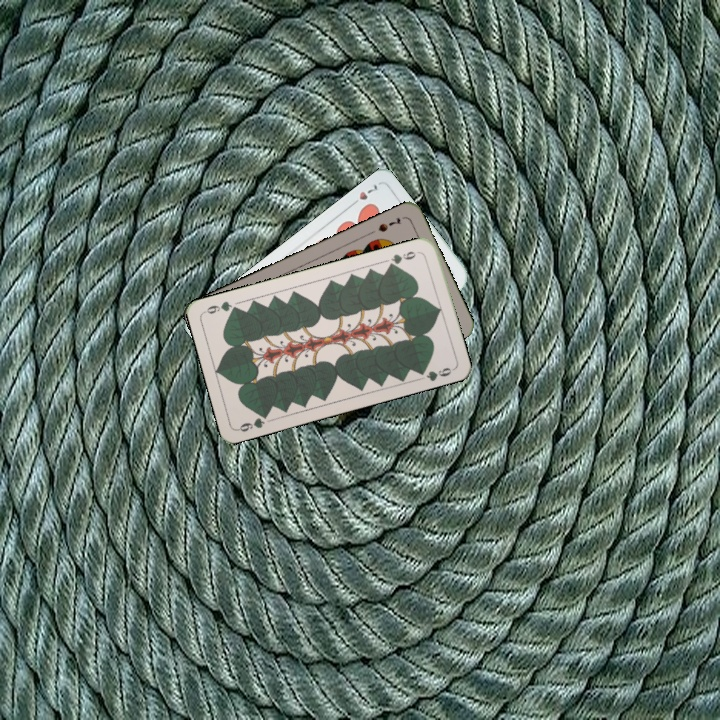G9: (234, 409, 272, 434), (384, 247, 423, 270)
H7: (346, 180, 380, 209)
S7: (374, 213, 404, 235)
